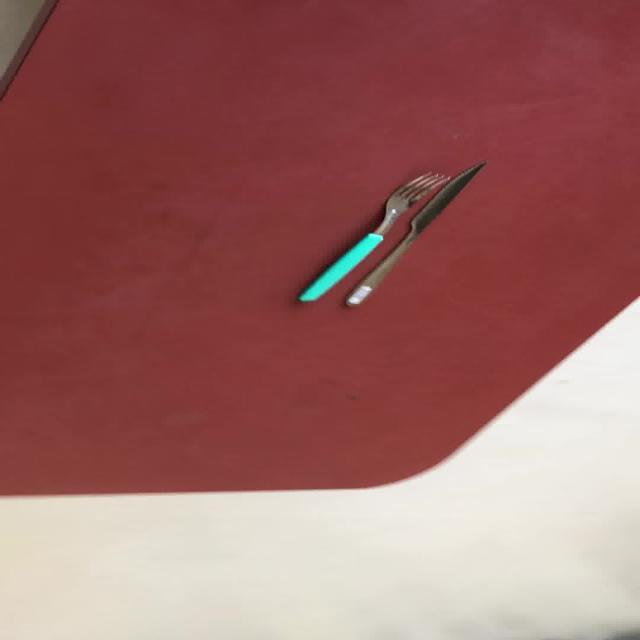fork: (343, 158, 487, 306), (295, 170, 449, 303)
knife fork: (342, 158, 488, 306), (295, 170, 449, 303)
